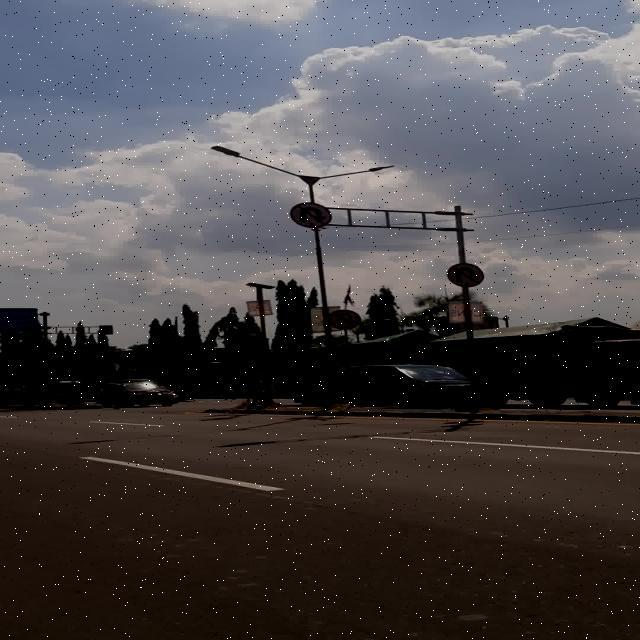Dilarang Putar Balik: (290, 202, 332, 228), (447, 262, 485, 288), (327, 310, 362, 330)
